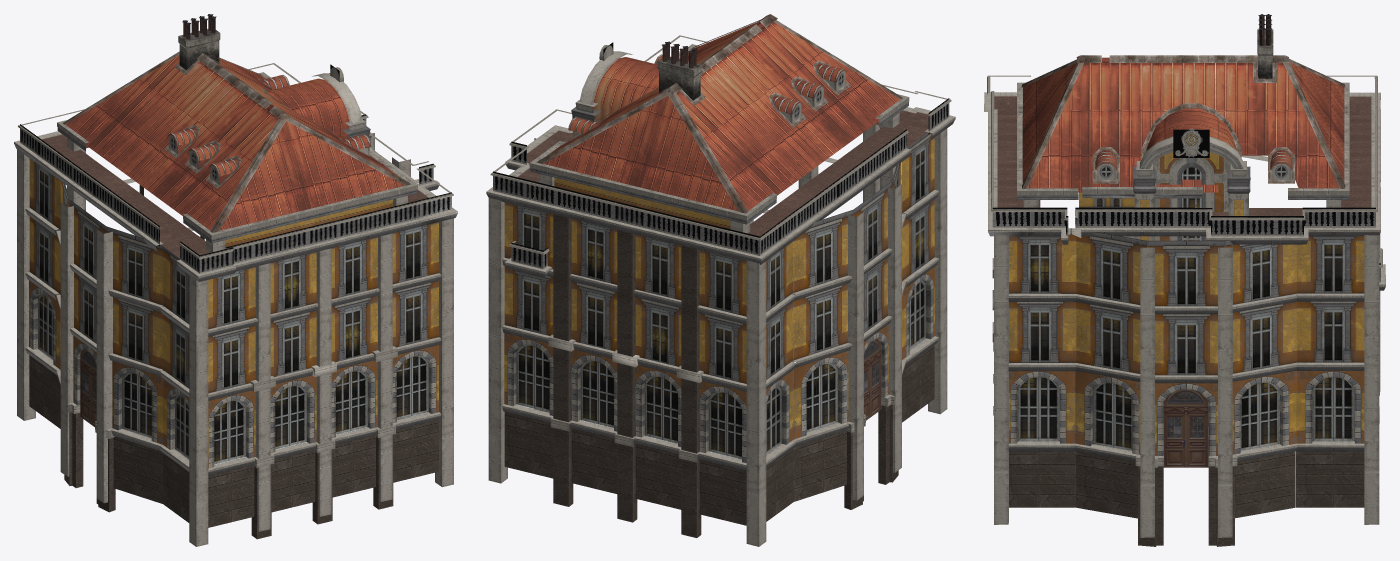
The model's file is tier2_city_end2.gltf.
3 renders of one model, left to right at view 1: azimuth 30°, elevation 25°; view 2: azimuth 150°, elevation 25°; view 3: azimuth 270°, elevation 25°, orthographic. The views are drawn at different scales.
Visible parts, largest first — view 1: chimney.002; view 2: chimney.002; view 3: chimney.002.
Boxes of the visible parts, box(x1,y1,x2,y2) form: chimney.002: box(14, 14, 457, 546); chimney.002: box(486, 14, 955, 546); chimney.002: box(984, 14, 1385, 546).
Size of the model in its own units: 2.36 by 3.03 by 2.48.
1 material, 1 textured.
